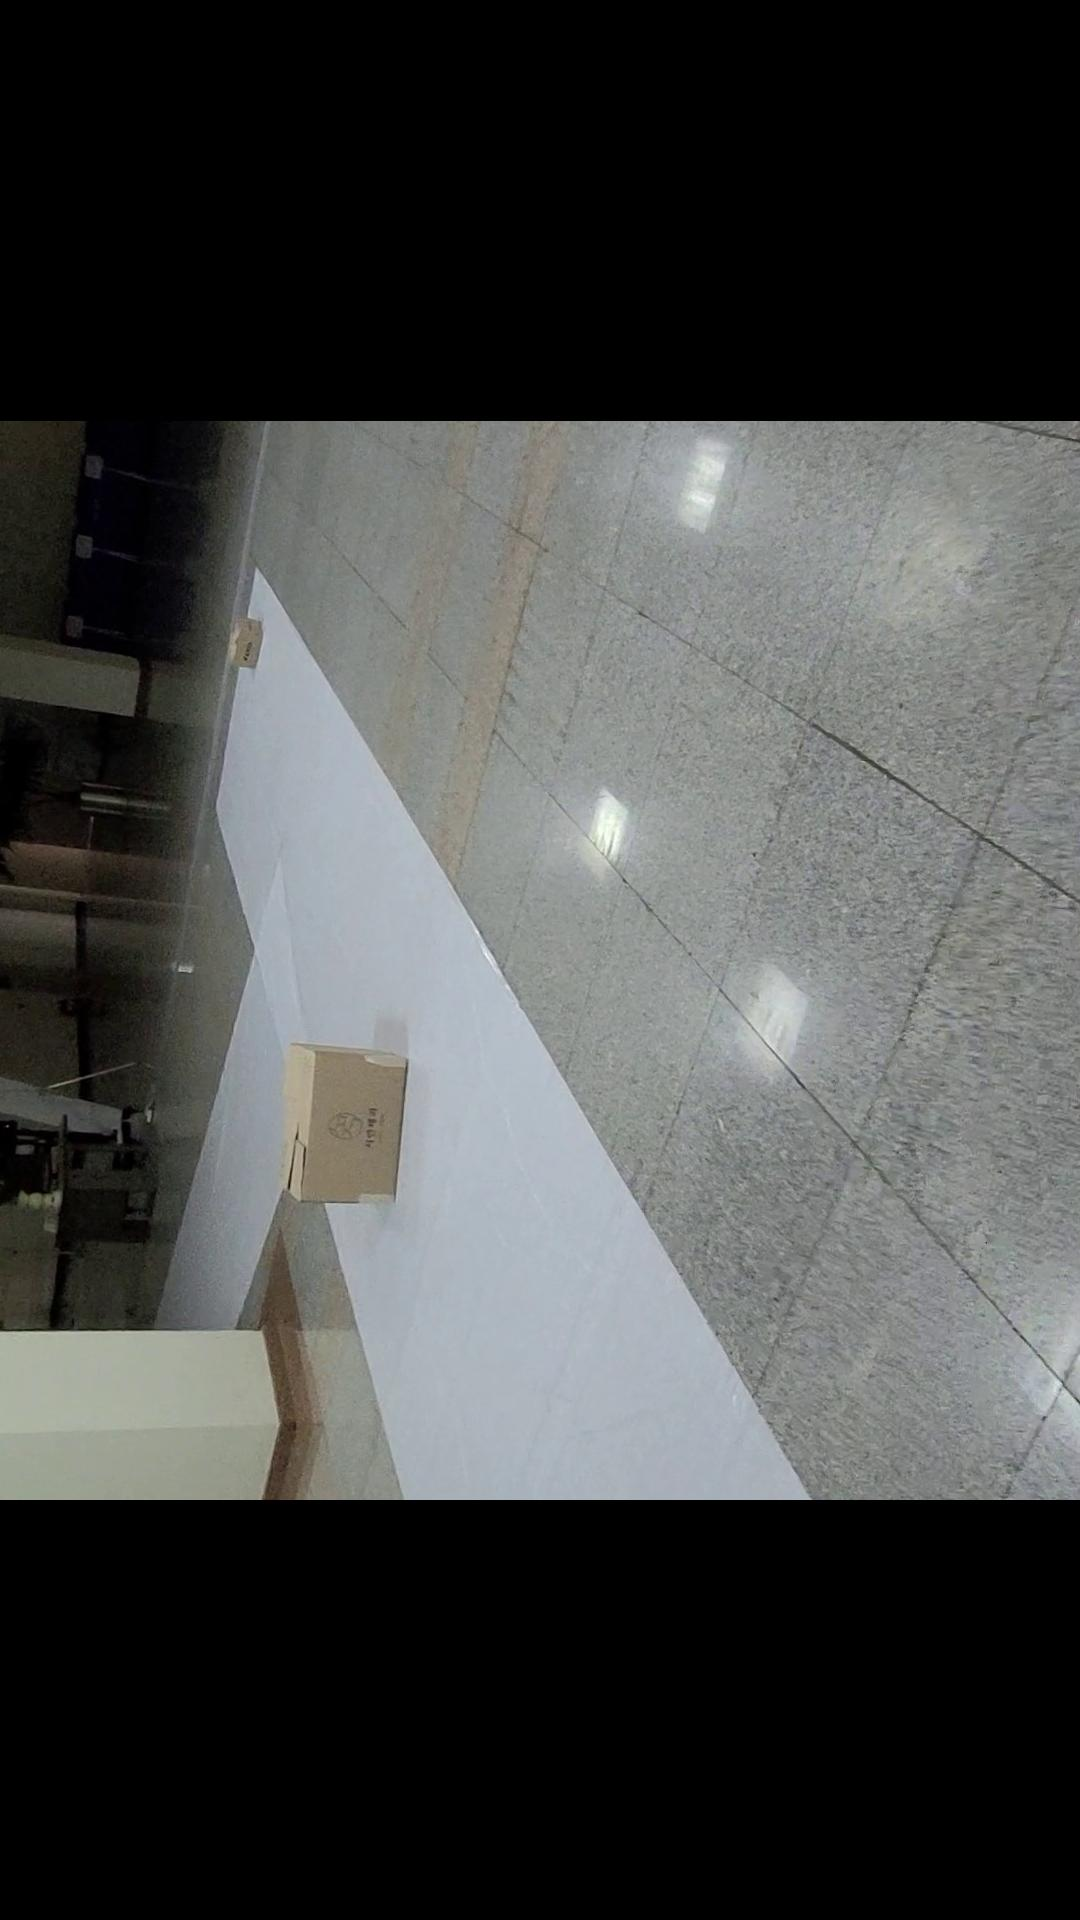Box: (233, 996, 455, 1267), (198, 583, 301, 694)
